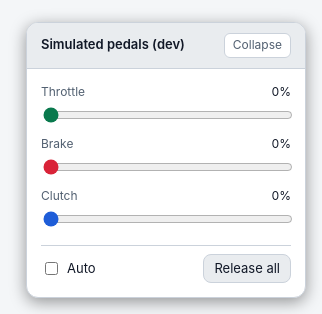
Test: SimPedalsPanel component › Auto checkbox disables sliders and sends auto: true
The width and height of the screenshot is (322, 314).
expect the text "Simulated pedals (dev)" is shown: met, box x1=41 y1=35 x2=185 y2=55
expect the slider labelled "Throttle" is enabled: met, box x1=43 y1=106 x2=293 y2=122
Click the checkbox labelled "Auto".
click(52, 268)  # box x1=45 y1=262 x2=58 y2=275
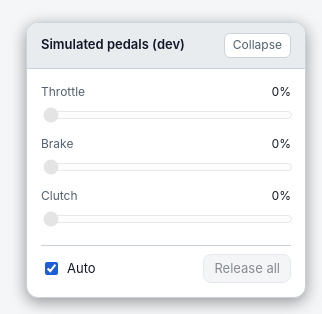
expect the slider labelled "Throttle" is disabled: met, box x1=43 y1=106 x2=293 y2=122
expect the slider labelled "Brake" is disabled: met, box x1=43 y1=158 x2=293 y2=174
expect the slider labelled "Clutch" is disabled: met, box x1=43 y1=210 x2=293 y2=226
